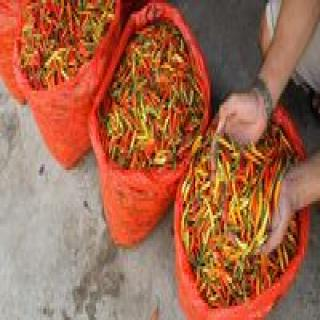Cabai Hijau: (179, 103, 305, 307)
